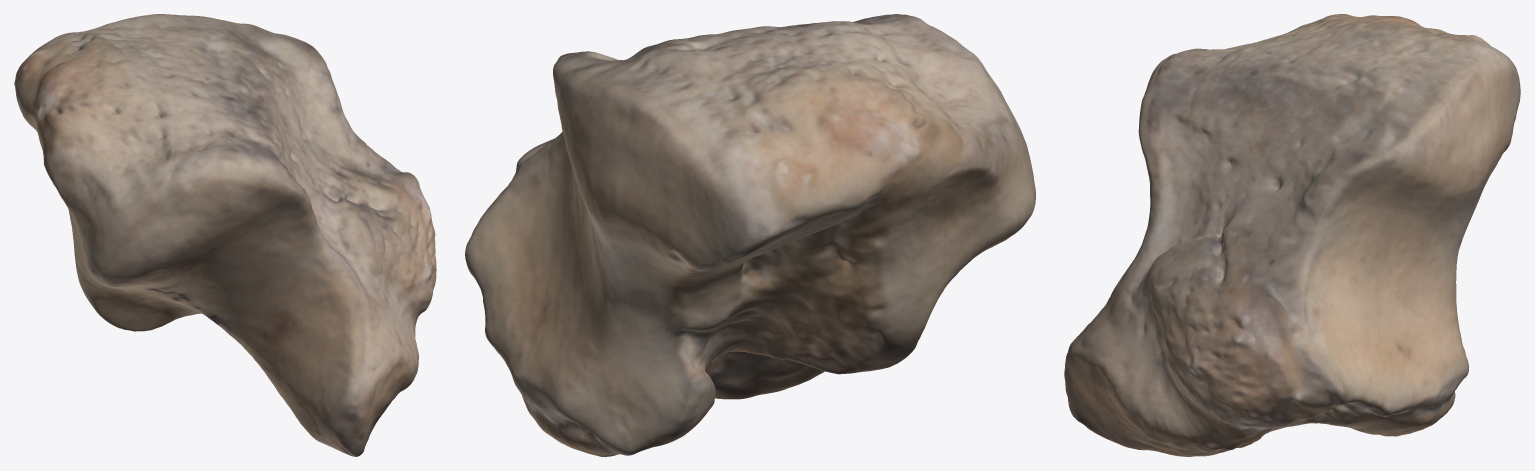
3 renders of one model, left to right at view 1: azimuth 30°, elevation 25°; view 2: azimuth 150°, elevation 25°; view 3: azimuth 270°, elevation 25°, orthographic. The views are drawn at different scales.
Visible parts, largest first — view 1: Node; view 2: Node; view 3: Node.
Boxes of the visible parts, box(x1,y1,x2,y2) form: Node: box(14, 14, 436, 456); Node: box(465, 14, 1035, 456); Node: box(1064, 14, 1520, 456).
Size of the model in its own units: 39.26 by 34.01 by 38.83.
Materials: 1 (1 with a texture image).
